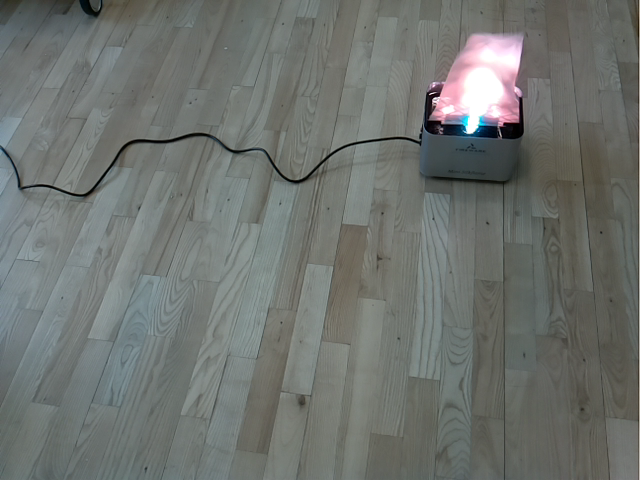fire: (428, 33, 524, 126)
